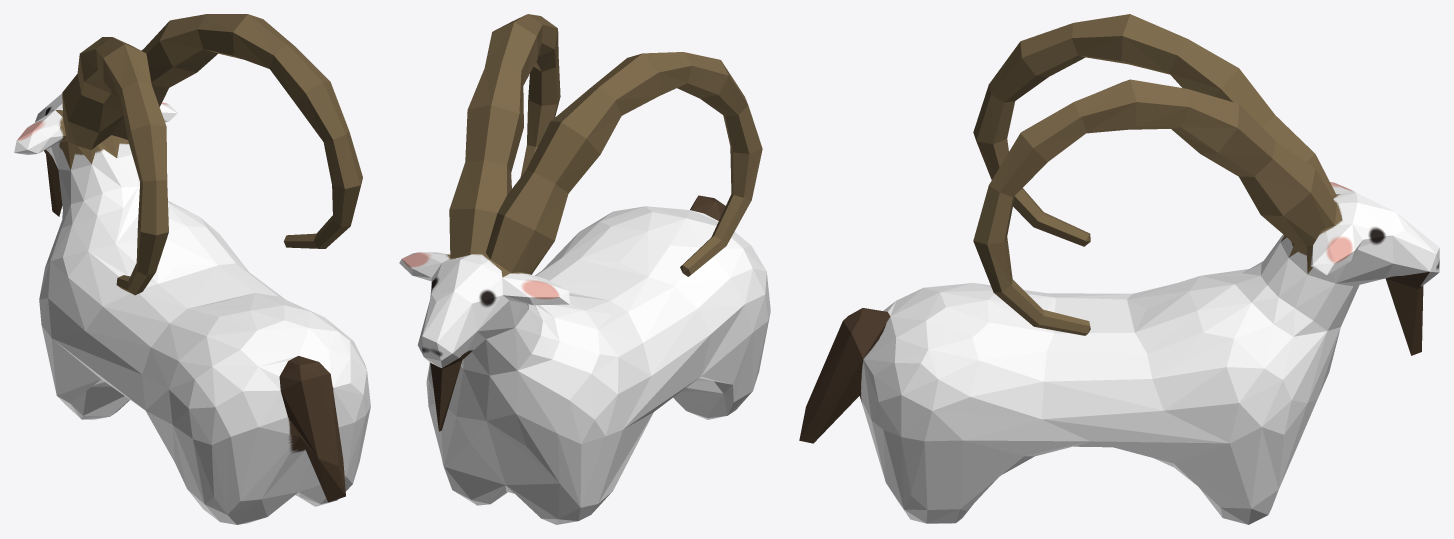
The model's file is animal_ibex_male_blob.obj.
The picture shows the model from 3 angles, left to right: view 1: azimuth 30°, elevation 25°; view 2: azimuth 150°, elevation 25°; view 3: azimuth 270°, elevation 25°; orthographic projection. The views are drawn at different scales.
Visible parts, largest first — view 1: animal_ibex_male_blob; view 2: animal_ibex_male_blob; view 3: animal_ibex_male_blob.
Part boxes in pixels (box(x1,y1,x2,y2)): animal_ibex_male_blob: box(14, 14, 370, 524); animal_ibex_male_blob: box(399, 14, 770, 524); animal_ibex_male_blob: box(799, 14, 1439, 524).
Size of the model in its own units: 0.5756 by 1.03 by 1.32.
